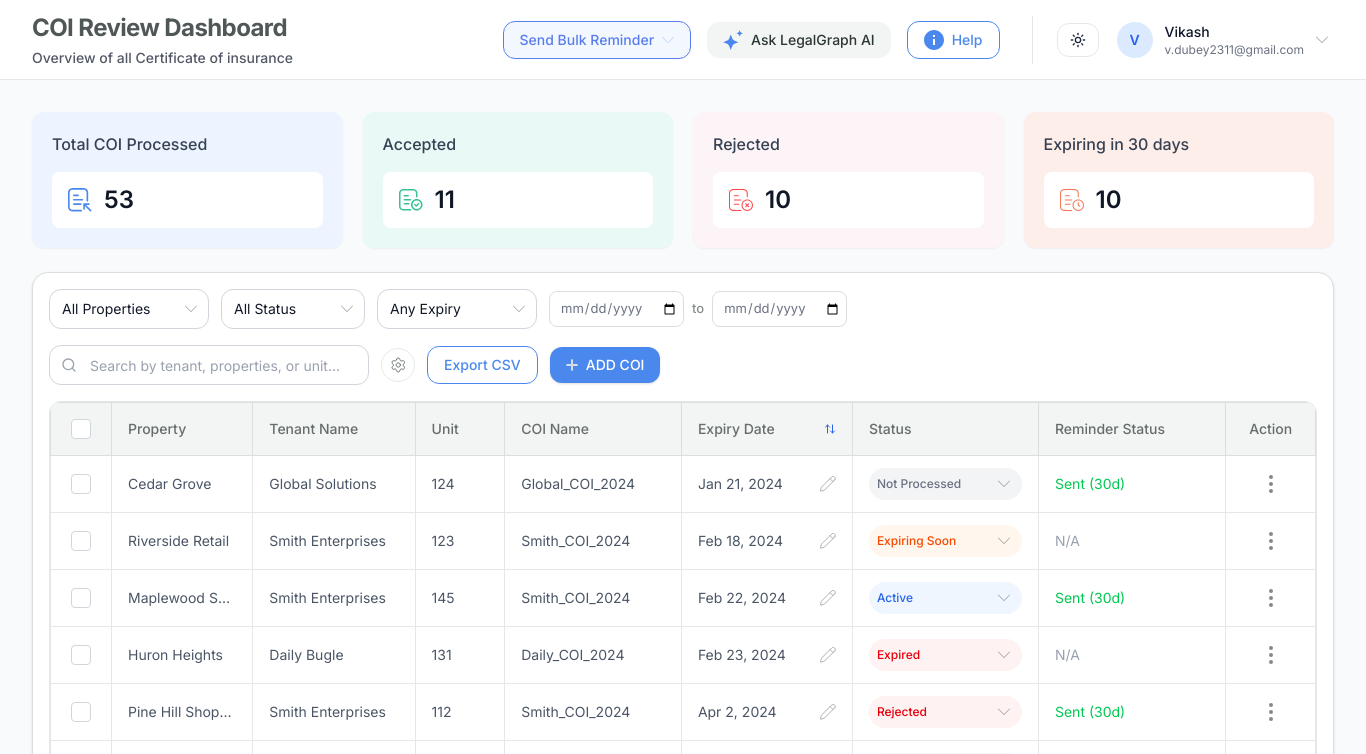
Test: Dashboard Page › edits an existing record
This screenshot has width=1366, height=754.
Click the 4th button with alt text "Options" at (1271, 484), box [1265, 470, 1277, 496]
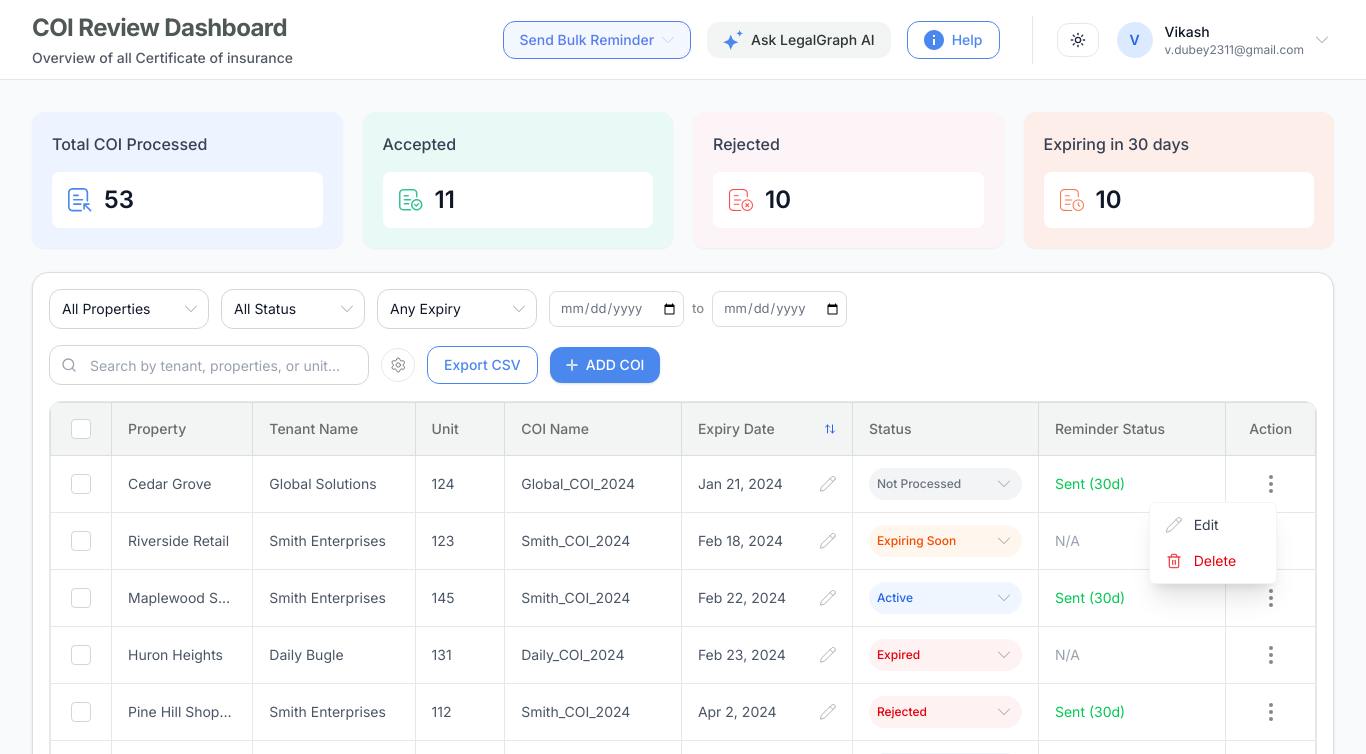
Click the menu item "Edit" at (1213, 524), box [1150, 506, 1276, 542]
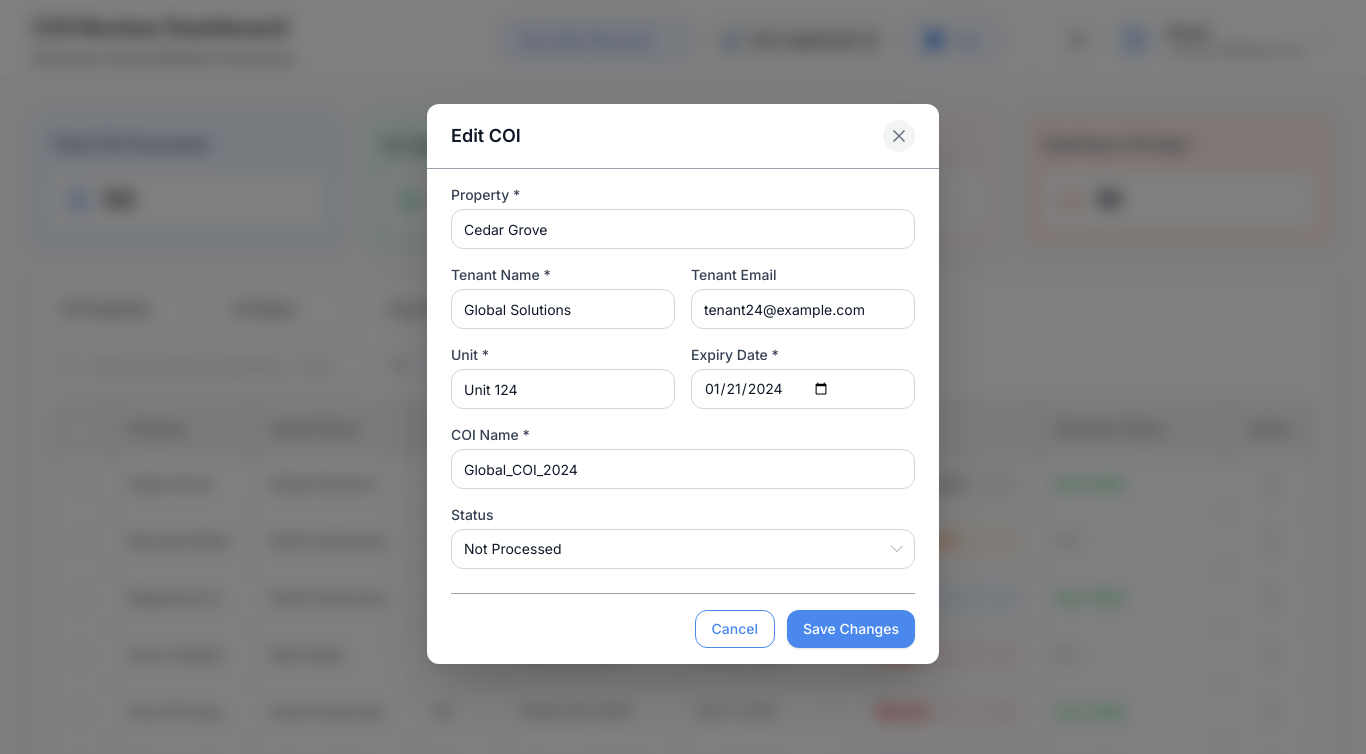
expect the heading "Edit COI" is shown: met, box [451, 122, 521, 150]
// Force submit to bypass JSDOM validation issues on pre-filled inputs
Submit the form named "Save Changes", box [451, 185, 915, 648]
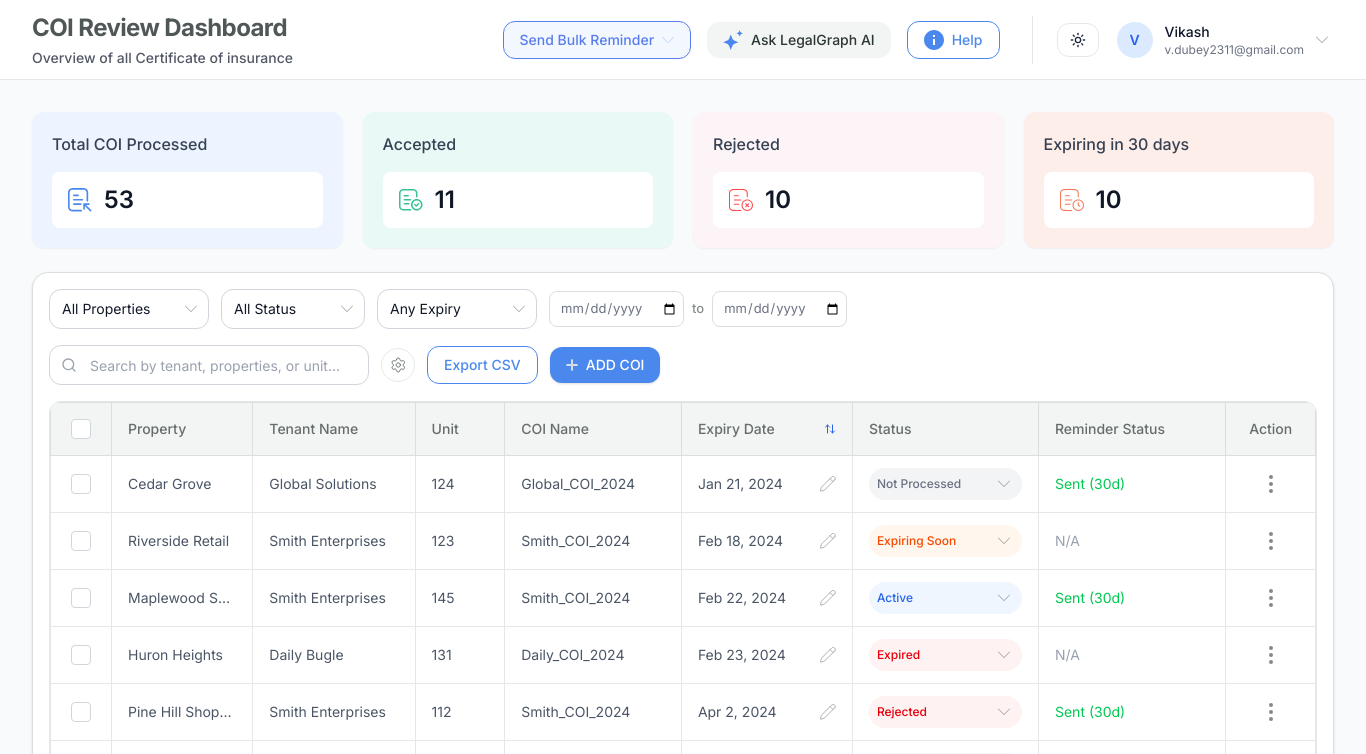
expect the heading "Edit" is gone: met
